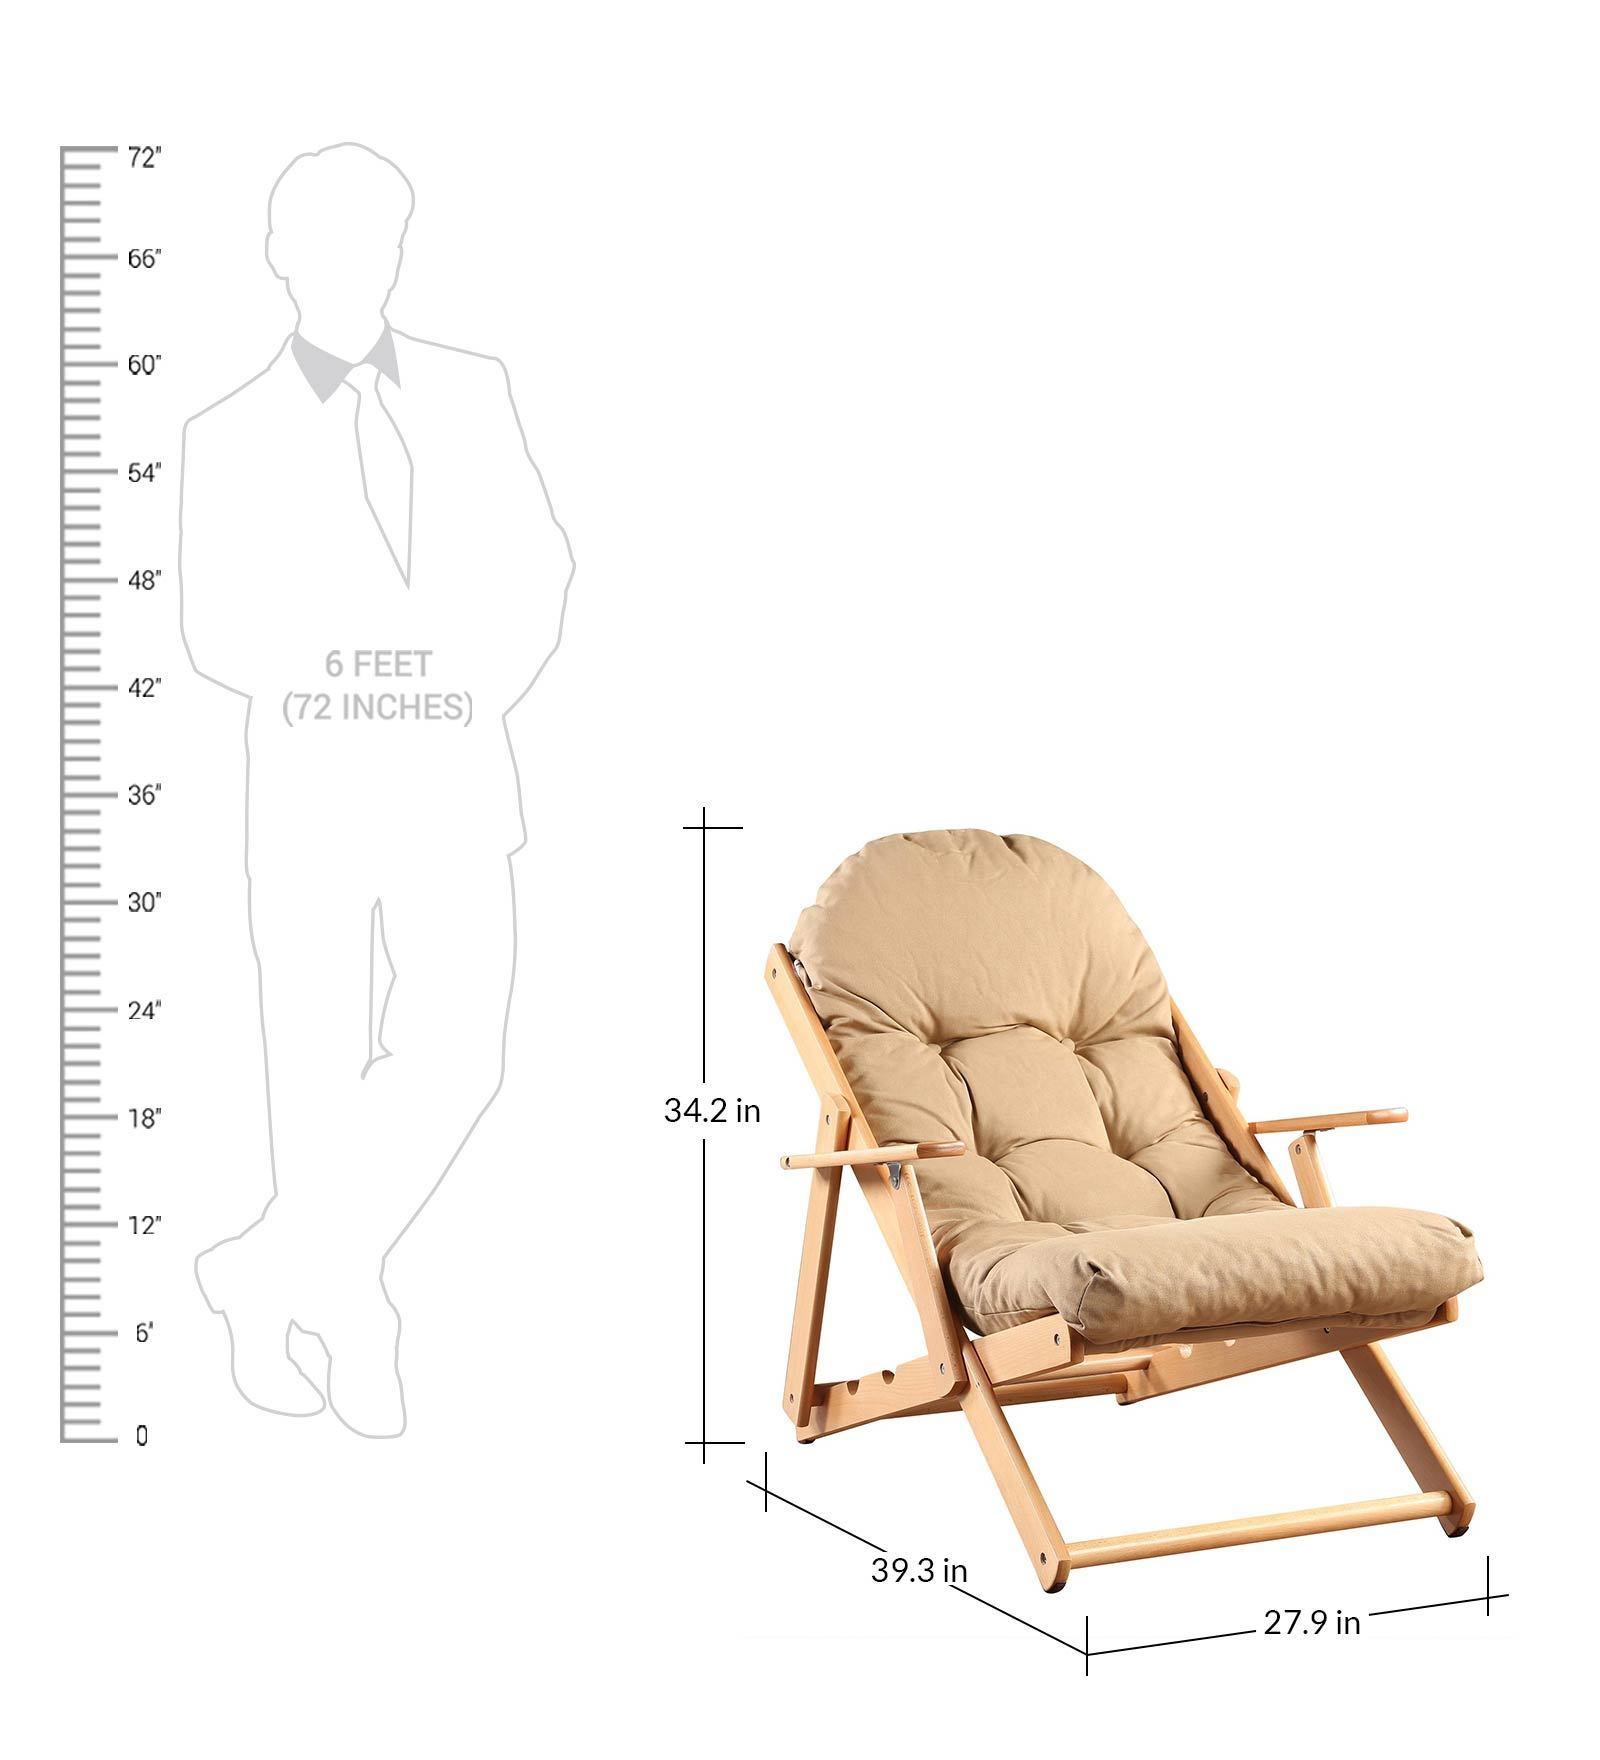Tulip Folding Chair in Beige Finish by HomeTown: (746, 848, 1543, 1585)
